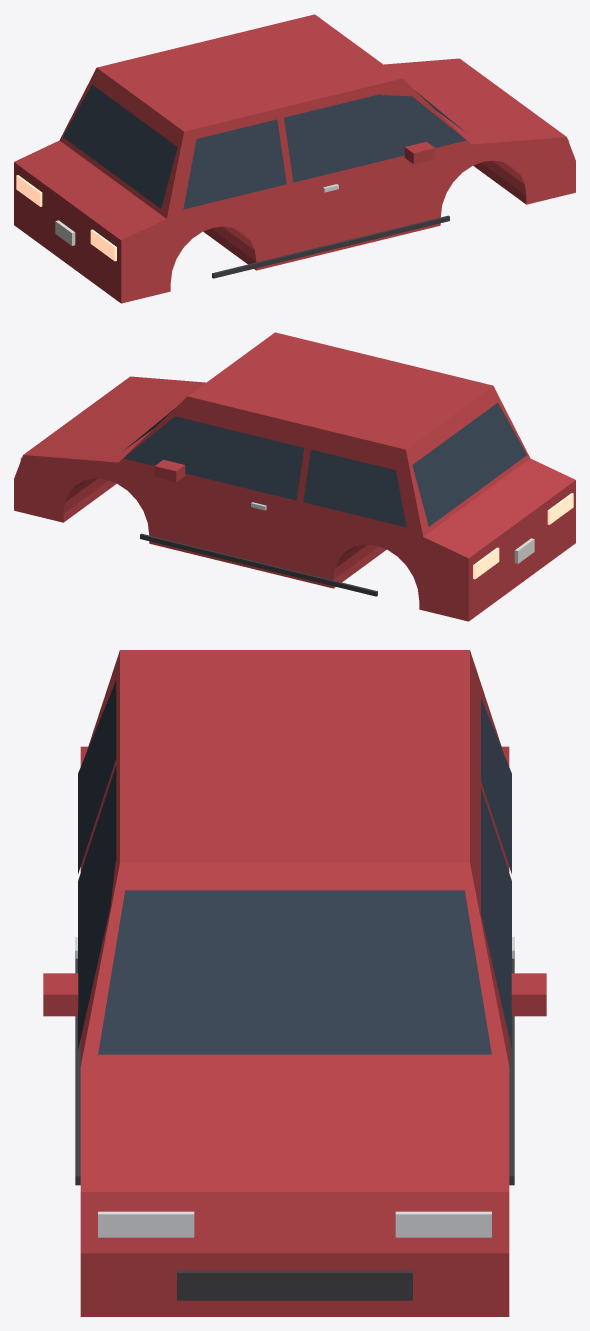
File: SM_Veh_SUV.fbx
3 views of the same model, one above another, from view 1: azimuth 30°, elevation 25°; view 2: azimuth 150°, elevation 25°; view 3: azimuth 270°, elevation 25° (orthographic). The views are drawn at different scales.
Parts seen in each view (by area): view 1: SM_Veh_SUV; view 2: SM_Veh_SUV; view 3: SM_Veh_SUV.
Part boxes in pixels (left/top/right/bottom): SM_Veh_SUV: left=14, top=14, right=575, bottom=303; SM_Veh_SUV: left=14, top=332, right=575, bottom=621; SM_Veh_SUV: left=43, top=650, right=546, bottom=1316.
Size of the model in its own units: 486 by 230 by 148.
